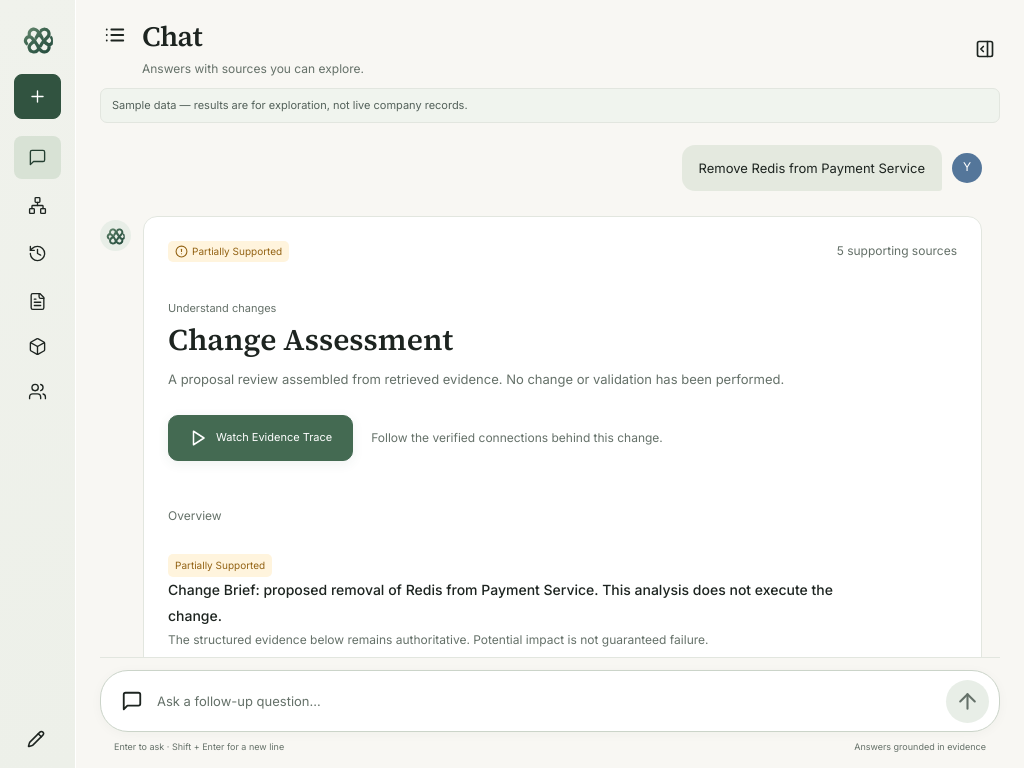
Test case: Trace Mode in persistent conversations › offers Watch Evidence Trace before the brief sections, prefers the real architecture sequence and plays only on request
This screenshot has width=1024, height=768.
expect the button named "New Chat" is enabled: met, box [14,74,61,119]
expect the field labelled "Trace Mode" is not shown: met
Click the button "Watch Evidence Trace".
click(261, 438)  # box [168,415,353,461]
(page scrolled)
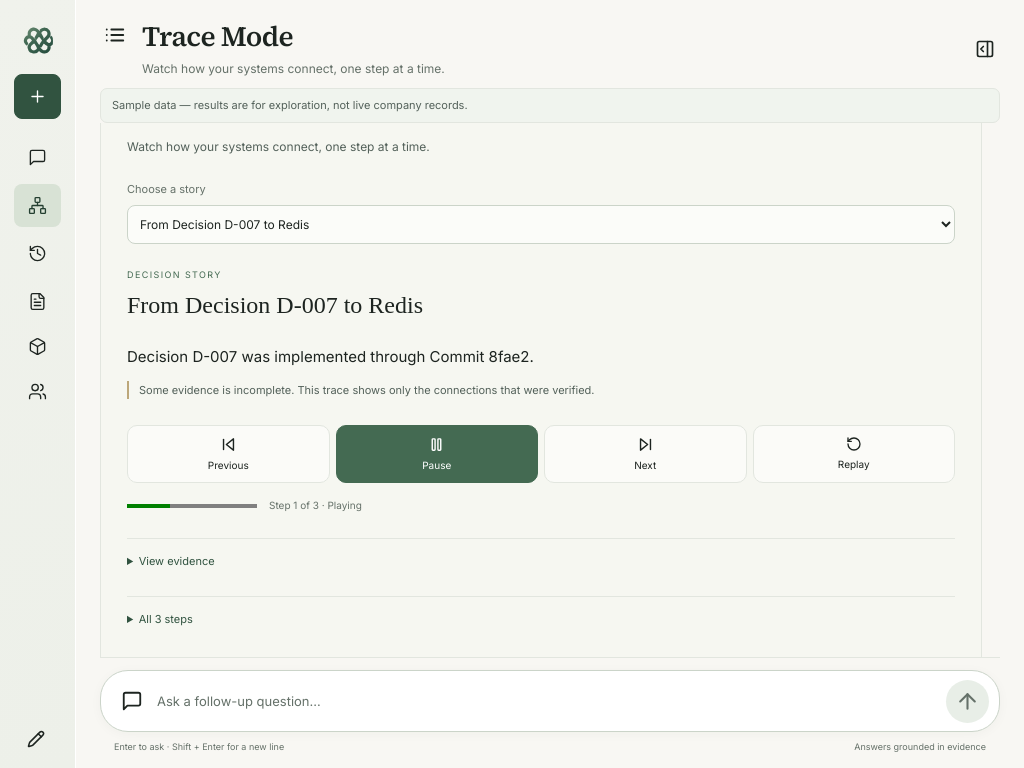
expect the dropdown named "Trace sequence" shows "From Decision D-007 to Redis": met, box [127,206,955,244]
expect the text "Step 1 of 3 · Playing" is shown: met, box [269,498,362,514]
expect the text "Some evidence is incomplete" is shown: met, box [139,383,594,397]
